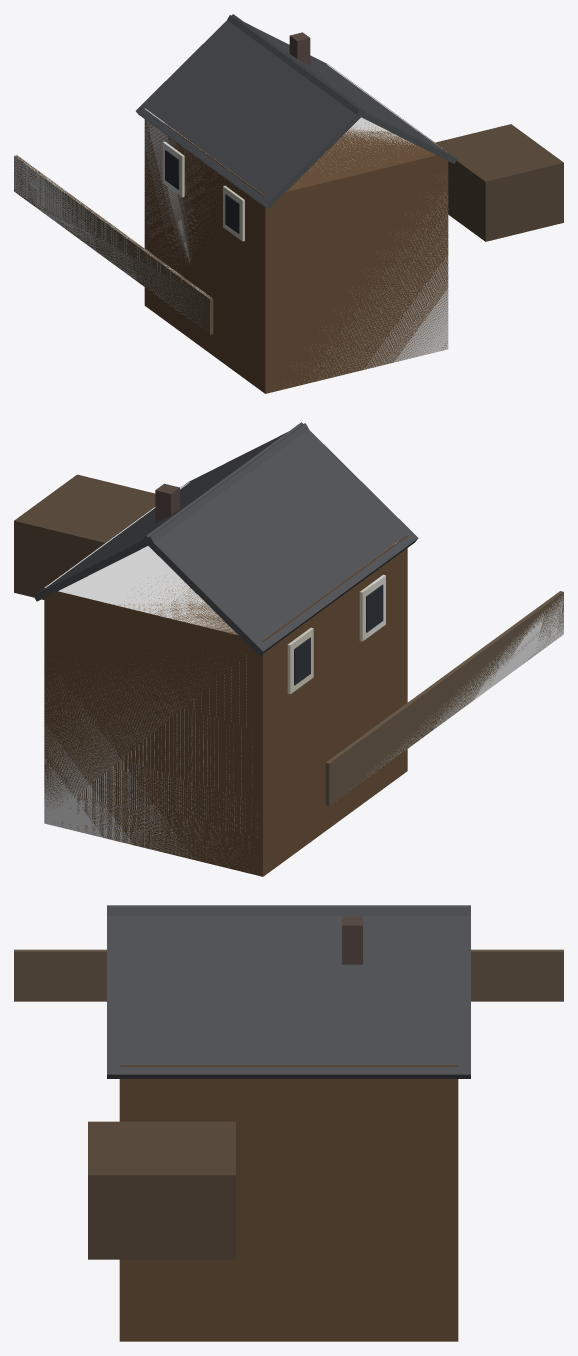
File: izba.glb
3 views of the same model, one above another, from view 1: azimuth 30°, elevation 25°; view 2: azimuth 150°, elevation 25°; view 3: azimuth 270°, elevation 25° (orthographic). The views are drawn at different scales.
Visible parts, largest first — view 1: 00_paint0, 01_#4c4e52, 06_#5a4a3a, solid, 05_#6a5a48, solid.003, 03_#2e333b_noshadow_r320, 02_#d8d4c4_noshadow_r320, 04_#5a4a44_r320; view 2: 00_paint0, 01_#4c4e52, solid, 05_#6a5a48, 06_#5a4a3a, solid.003, 03_#2e333b_noshadow_r320, 02_#d8d4c4_noshadow_r320, 04_#5a4a44_r320; view 3: 00_paint0, 01_#4c4e52, 06_#5a4a3a, 05_#6a5a48, 04_#5a4a44_r320.
Part boxes in pixels (x1,y1,x2,y2): 00_paint0: (144,112,448,393); 01_#4c4e52: (136,14,456,209); 06_#5a4a3a: (435,124,563,241); solid: (144,64,448,380); 05_#6a5a48: (14,155,213,334); solid.003: (14,156,208,322); 03_#2e333b_noshadow_r320: (165,150,239,233); 02_#d8d4c4_noshadow_r320: (167,146,244,241); 04_#5a4a44_r320: (289,32,310,65); 00_paint0: (44,482,407,876); 01_#4c4e52: (33,422,418,655); solid: (44,482,397,866); 05_#6a5a48: (325,591,563,805); 06_#5a4a3a: (14,474,155,599); solid.003: (369,594,563,776); 03_#2e333b_noshadow_r320: (294,584,383,685); 02_#d8d4c4_noshadow_r320: (287,578,382,694); 04_#5a4a44_r320: (155,483,179,523); 00_paint0: (119,1065,458,1341); 01_#4c4e52: (107,905,470,1078); 06_#5a4a3a: (88,1121,235,1259); 05_#6a5a48: (14,949,563,1001); 04_#5a4a44_r320: (342,916,362,964).
Bounding box in the file's own units: 14.56 × 9.8 × 13.
